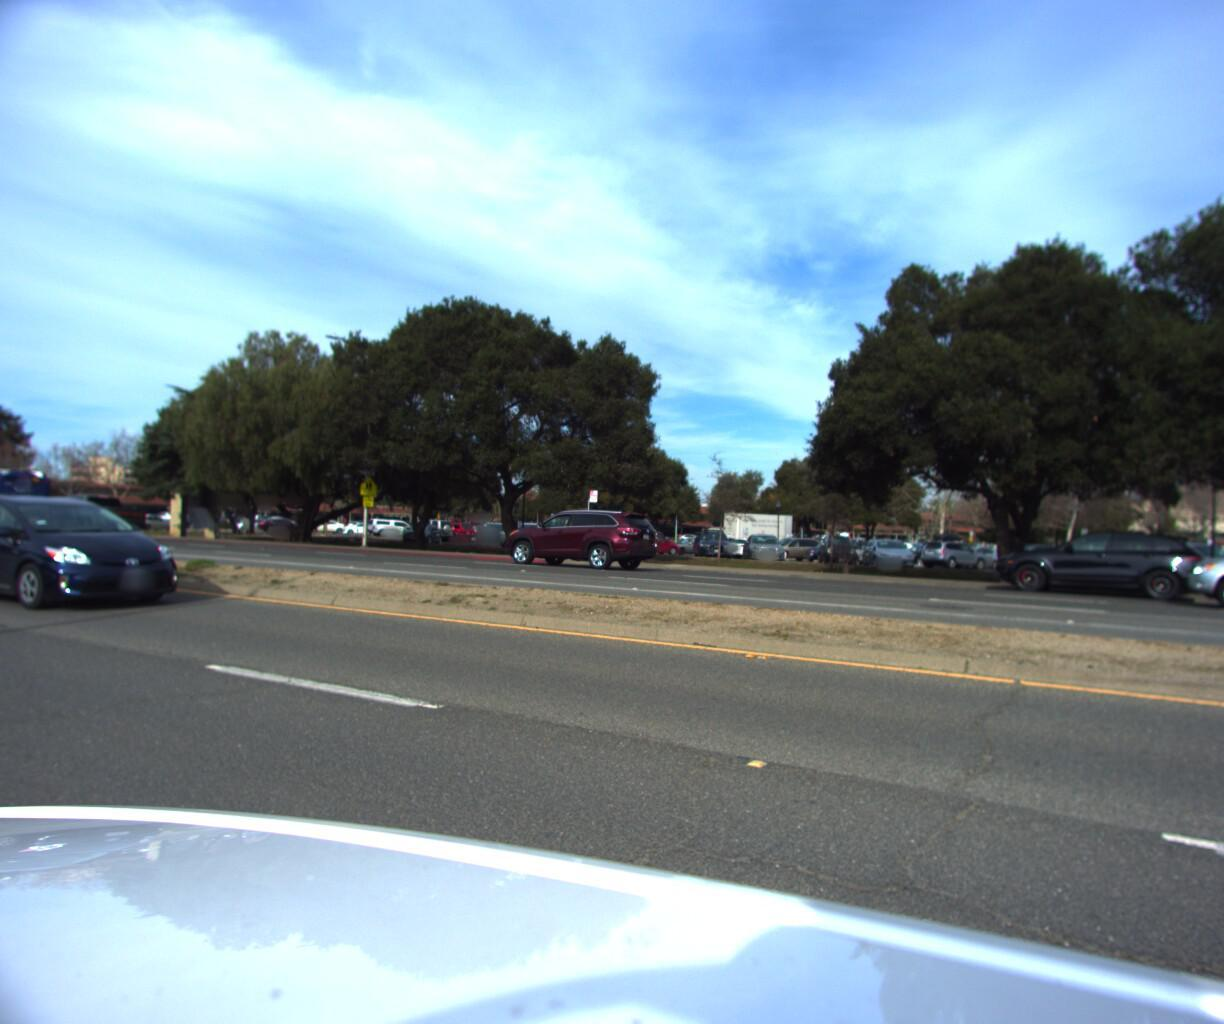bus: (0, 471, 68, 540)
car: (0, 491, 199, 615), (982, 524, 1216, 604), (498, 508, 669, 573), (23, 496, 152, 547), (1181, 516, 1224, 623)
